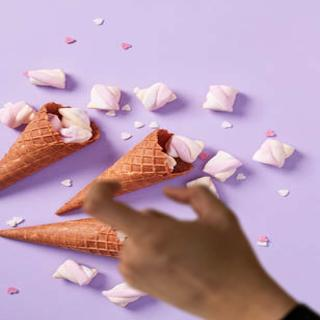HATE: (73, 172, 260, 309)
